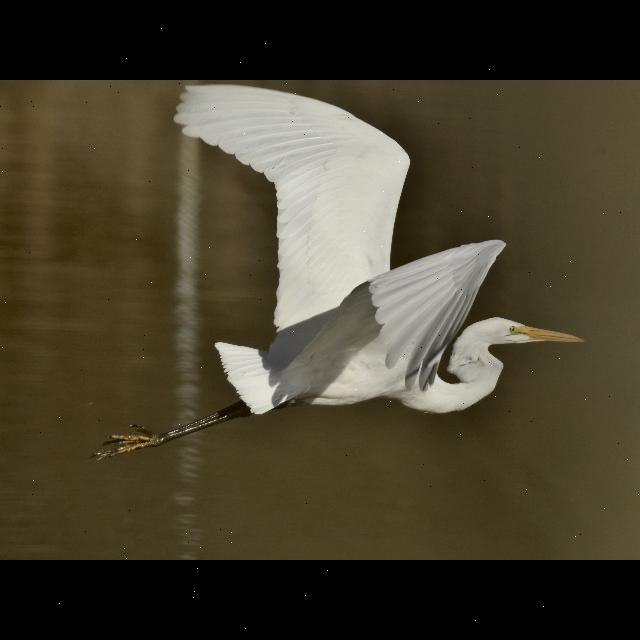egret: (100, 80, 586, 460)
